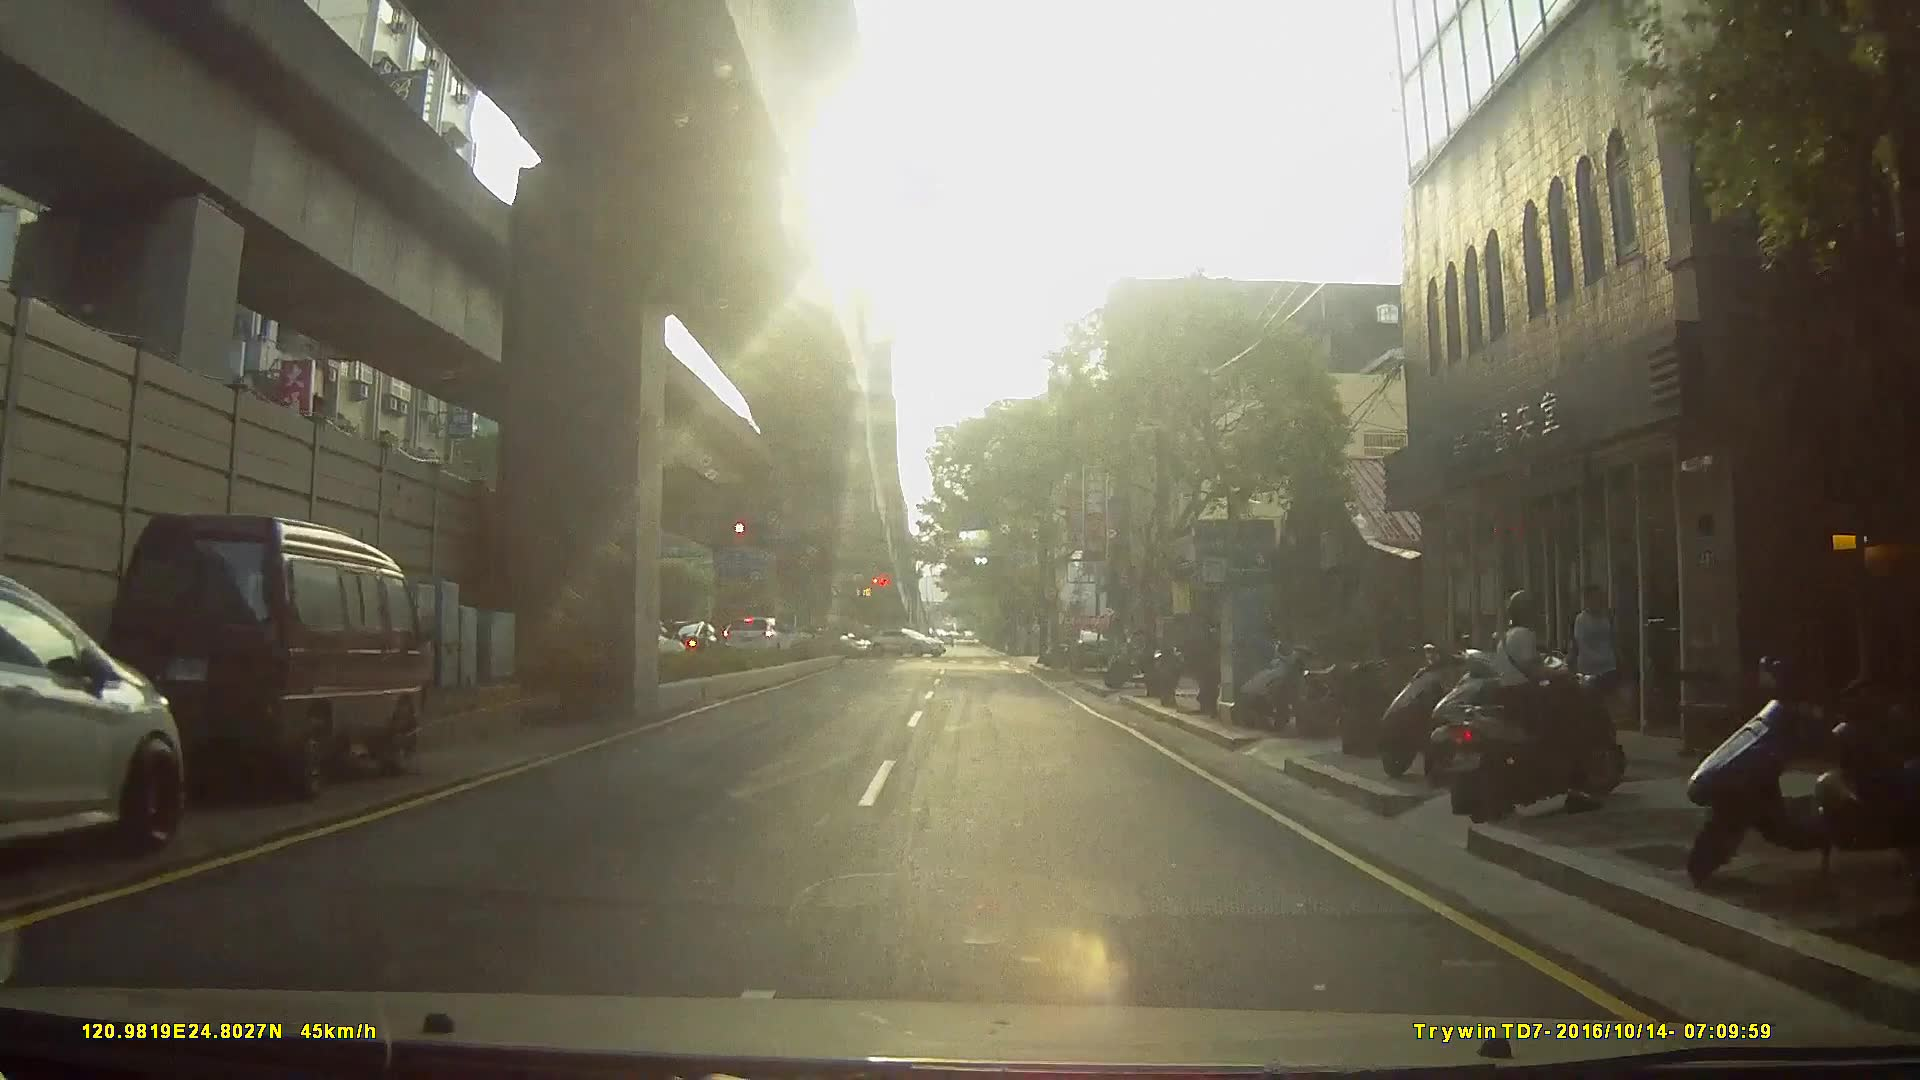pedestrian: (1570, 582, 1637, 762)
rider: (1454, 593, 1653, 829)
vehicle: (87, 504, 450, 804), (1, 566, 198, 865), (779, 623, 876, 661), (720, 614, 798, 660), (1065, 623, 1118, 671), (871, 627, 950, 657)
